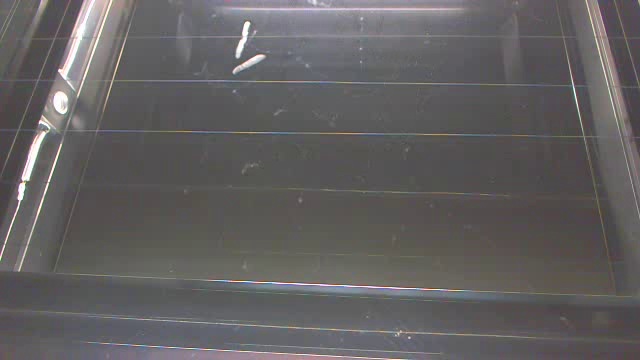alpha: (231, 54, 268, 77), (234, 18, 251, 60)
